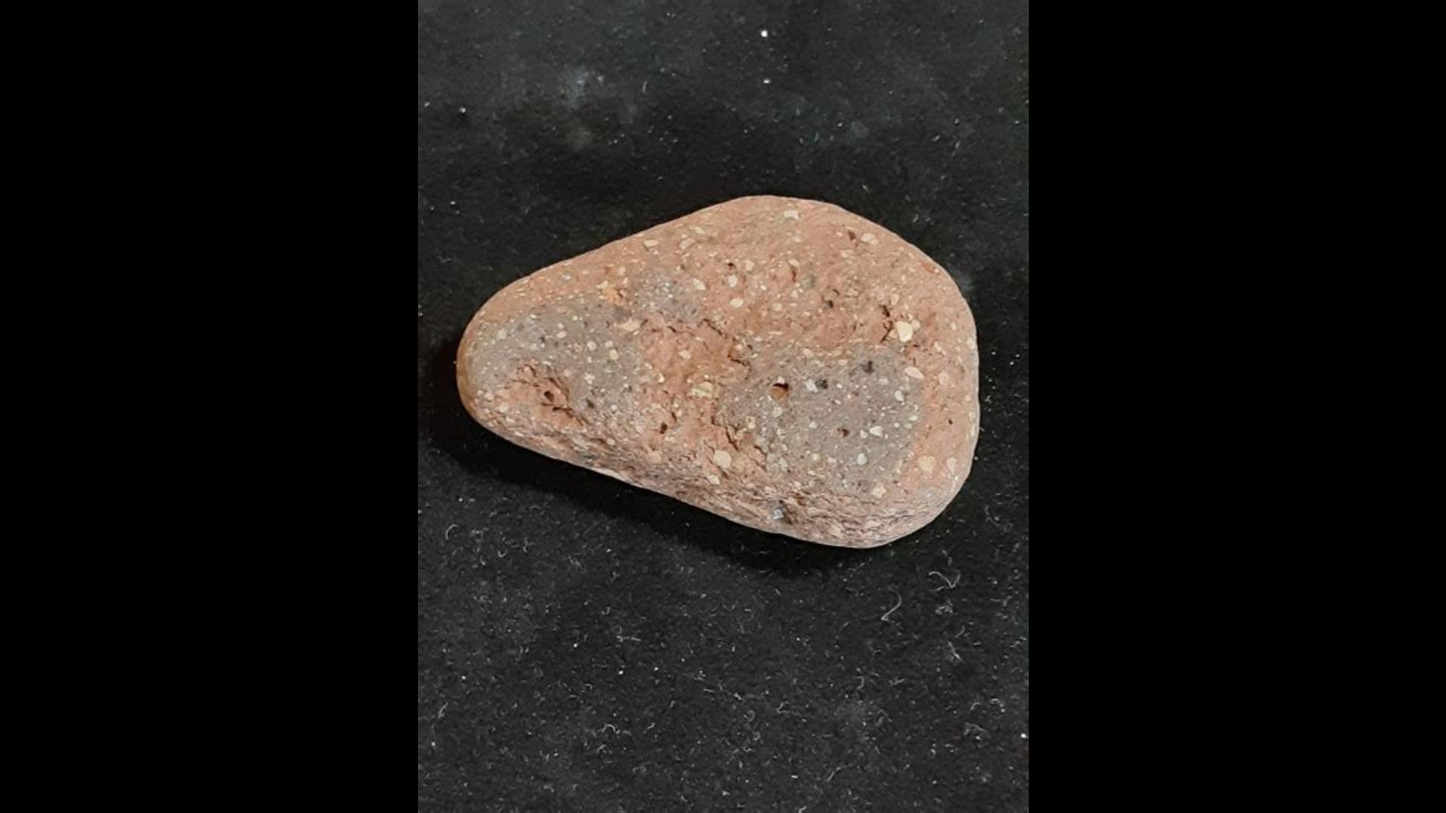rock: (457, 197, 978, 545)
